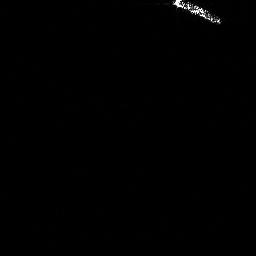ship: (171, 1, 223, 24)
